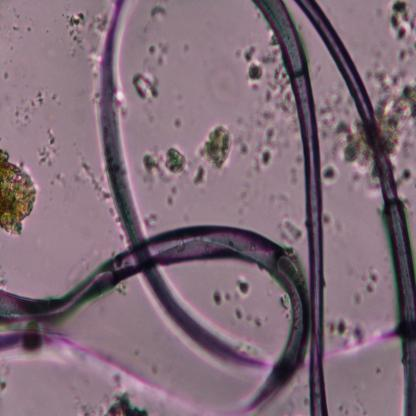Background material: (371, 68, 416, 166), (0, 146, 37, 236), (336, 116, 376, 181), (0, 324, 63, 356), (387, 0, 415, 65), (208, 56, 243, 106), (200, 123, 234, 170), (317, 86, 345, 143), (266, 65, 293, 118), (325, 311, 366, 344), (13, 91, 44, 130), (80, 163, 110, 203), (106, 390, 147, 416), (275, 211, 305, 246), (233, 170, 254, 218), (233, 115, 255, 156), (132, 68, 160, 99), (38, 128, 58, 170), (242, 44, 264, 82), (143, 150, 165, 184), (321, 157, 341, 190), (68, 9, 84, 50), (164, 148, 187, 174), (141, 202, 160, 233), (148, 41, 170, 67), (365, 265, 381, 298), (396, 164, 414, 190), (41, 173, 66, 191), (0, 360, 13, 394), (192, 162, 209, 187), (229, 302, 246, 324), (258, 146, 274, 169), (16, 16, 34, 36), (214, 286, 232, 306), (170, 110, 185, 133), (150, 2, 166, 23), (166, 183, 179, 208), (319, 211, 339, 226), (236, 278, 252, 296), (49, 87, 62, 108), (179, 38, 191, 58), (264, 127, 278, 144), (254, 316, 265, 329), (5, 68, 12, 82), (10, 46, 15, 52)
Microfibre: (96, 0, 414, 376), (0, 225, 307, 414), (296, 0, 416, 414), (252, 0, 330, 414)
